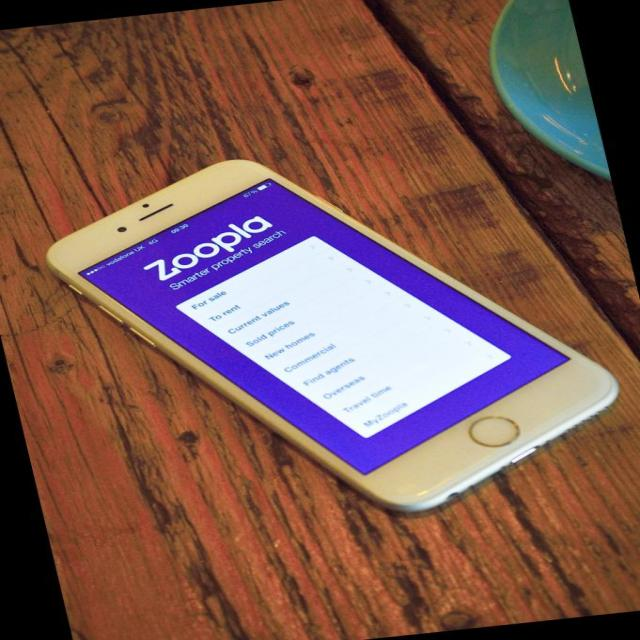handphone: (47, 164, 592, 509)
